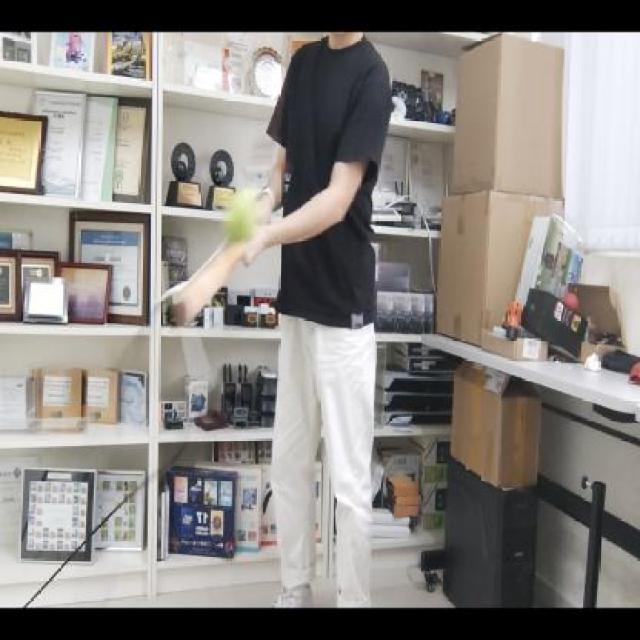baseball: (230, 189, 258, 242)
